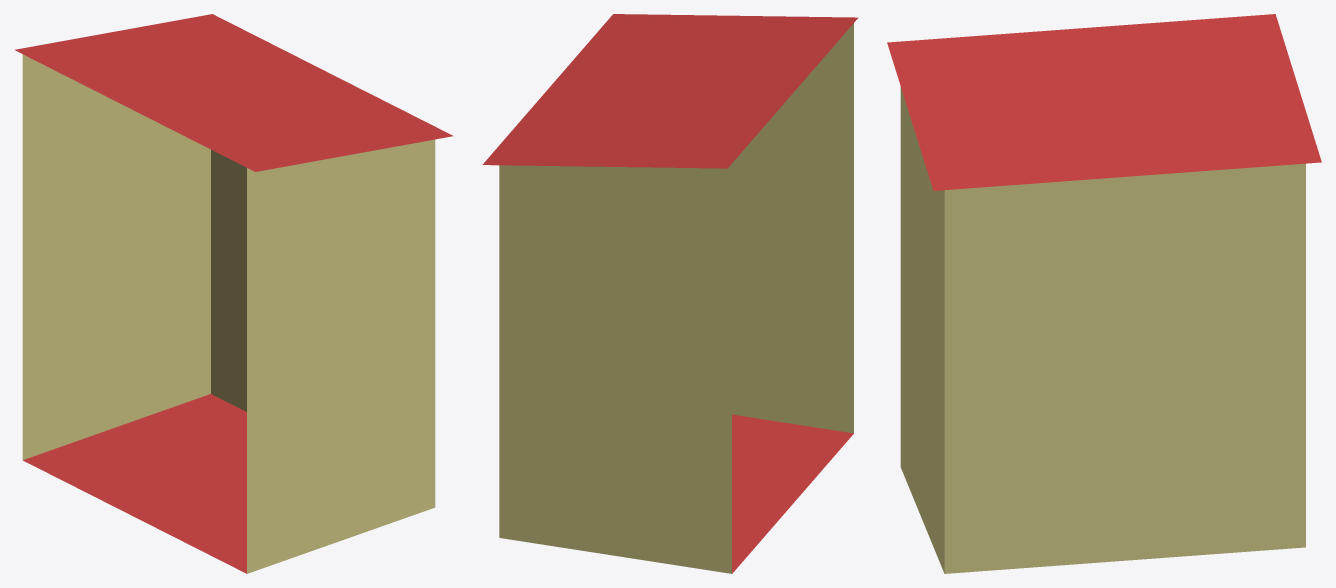
The picture shows the model from 3 angles, left to right: view 1: azimuth 30°, elevation 25°; view 2: azimuth 150°, elevation 25°; view 3: azimuth 270°, elevation 25°; orthographic projection. The views are drawn at different scales.
Size of the model in its own units: 6.1 by 7.93 by 8.56.
